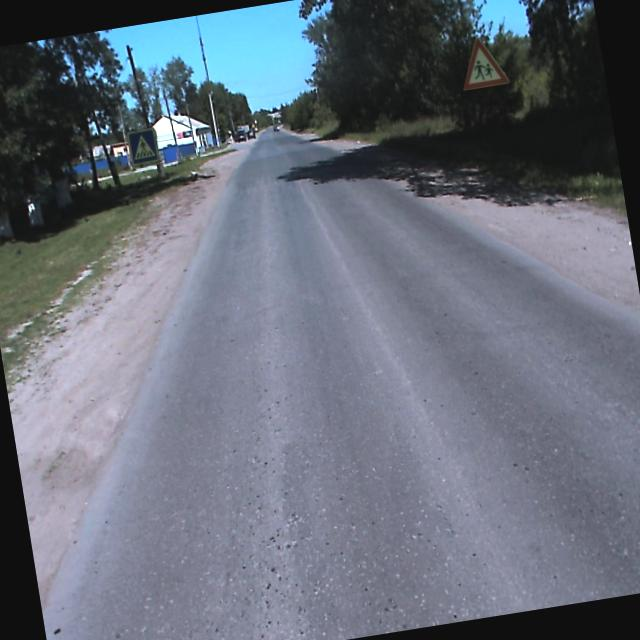road: (42, 131, 640, 640)
